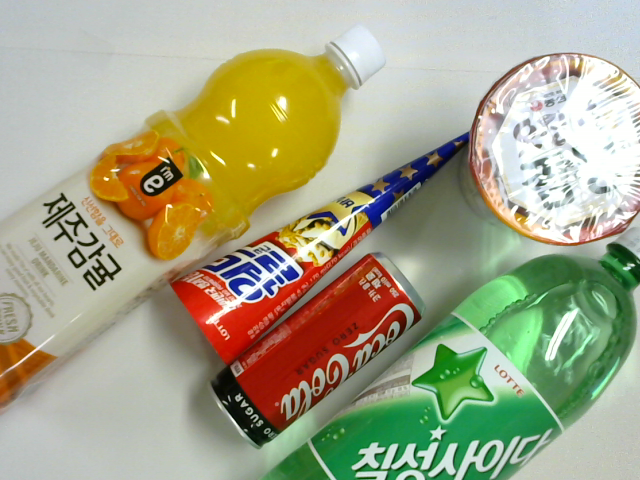Chilseong_Cider_1.5L: (261, 228, 640, 479)
Coca_Cola_Zero_Can_250ml: (207, 249, 426, 448)
Jeju_Tangerine_1.5L: (1, 22, 390, 412)
Ojjam: (458, 53, 640, 247)
World_Cone_Banila: (171, 123, 477, 366)
